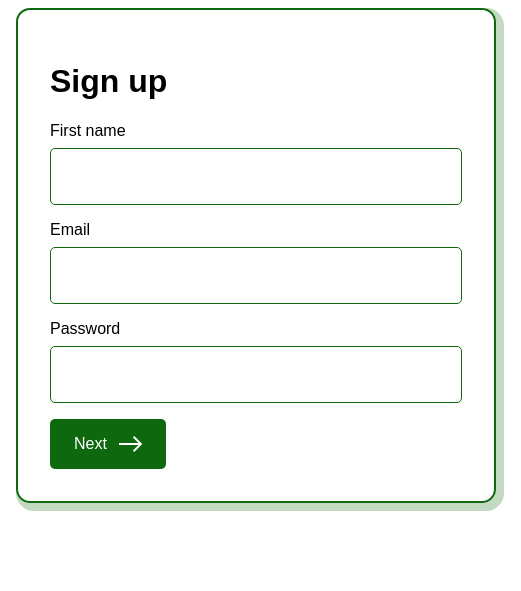
Test case: SignUpPage › should have errors submitting invalid form
Click the button "Next" at (108, 444), box [50,419,166,469]
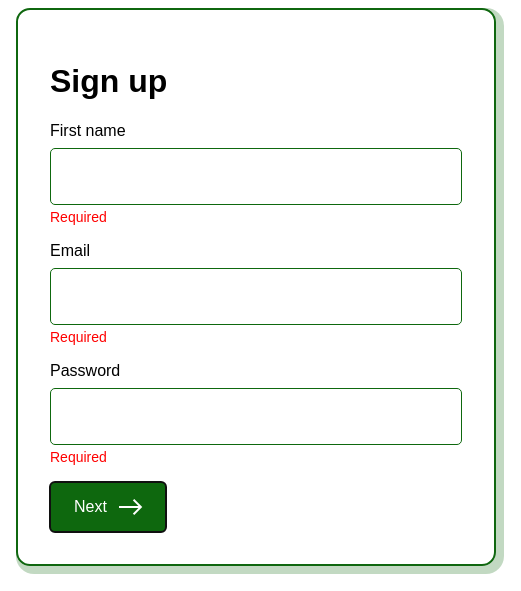
Now the text "Required" is shown 3 times, box [50,209,107,225]; [50,329,107,345]; [50,449,107,465]
